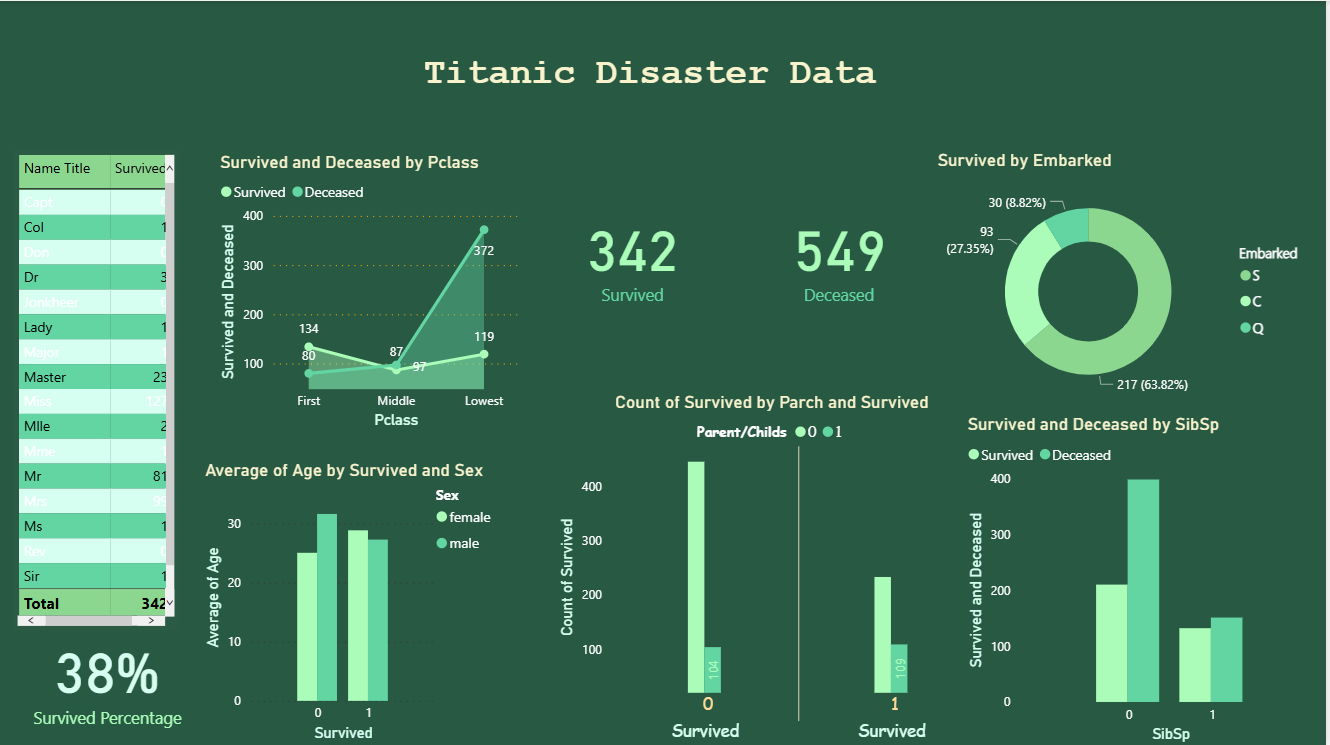

The dashboard page shown, as its layout file describes it:
{"tool":"powerbi","page":{"name":"Page 1","canvas":[1280,720],"ordinal":0},"visuals":[{"type":"card","fields":{"Values":["train_edited.Survived divided by Count of Survived"]},"box":[0,586.3,207.8,133.5],"z":0},{"type":"clusteredColumnChart","fields":{"Category":["train_edited.Survived"],"Y":["Avg(train_edited.Age)"],"Series":["train_edited.Sex"]},"box":[192.7,443.2,294.5,276.6],"z":1000},{"type":"pieChart","fields":{"Y":["Sum(train_edited.Survived)"],"Category":["train_edited.Embarked"]},"box":[900.1,143.1,379.9,254.6],"z":2000},{"type":"areaChart","fields":{"Y":["Sum(train_edited.Survived)","train_edited.dead numbers"],"Category":["train_edited.Pclass"]},"box":[207.8,144.5,298.7,272.5],"z":3000},{"type":"tableEx","fields":{"Values":["train_edited.Name Title","Sum(train_edited.Survived)"]},"box":[12.4,143.1,161,463.8],"z":4000},{"type":"card","fields":{"Values":["train_edited.dead numbers"]},"box":[718.5,178.9,181.7,133.5],"z":5000},{"type":"card","fields":{"Values":["Sum(train_edited.Survived)"]},"box":[520.3,178.9,181.7,133.5],"z":6000},{"type":"clusteredColumnChart","fields":{"Y":["CountNonNull(train_edited.Survived)"],"Series":["train_edited.Parch"],"Rows":["train_edited.Survived"]},"box":[534,375.7,421.2,344.1],"z":7000},{"type":"textbox","title":"Titanic Disaster Data","box":[414.3,50.9,451.4,48.2],"z":8000},{"type":"clusteredColumnChart","fields":{"Category":["train_edited.SibSp"],"Y":["Sum(train_edited.Survived)","train_edited.Deceased"]},"box":[929,397.8,351,322.1],"z":9000},{"type":"textbox","box":[12.4,11,305.5,49.5],"z":10000}]}

Visuals, with their boxes in screenshot pixels (x1, y1, x2, y2), scaled from the page's 1280x720 canvas onto the 1330x745 screenshot:
card - train_edited.Survived divided by Count of Survived: Rect(0, 607, 216, 744)
clusteredColumnChart - train_edited.Survived x Avg(train_edited.Age): Rect(200, 459, 506, 744)
pieChart - Sum(train_edited.Survived) x train_edited.Embarked: Rect(935, 148, 1329, 412)
areaChart - Sum(train_edited.Survived) x train_edited.dead numbers: Rect(216, 150, 526, 431)
tableEx - train_edited.Name Title x Sum(train_edited.Survived): Rect(13, 148, 180, 628)
card - train_edited.dead numbers: Rect(747, 185, 935, 323)
card - Sum(train_edited.Survived): Rect(541, 185, 729, 323)
clusteredColumnChart - CountNonNull(train_edited.Survived) x train_edited.Parch: Rect(555, 389, 993, 744)
"Titanic Disaster Data" textbox: Rect(430, 53, 900, 103)
clusteredColumnChart - train_edited.SibSp x Sum(train_edited.Survived): Rect(965, 412, 1329, 744)
textbox: Rect(13, 11, 330, 63)
